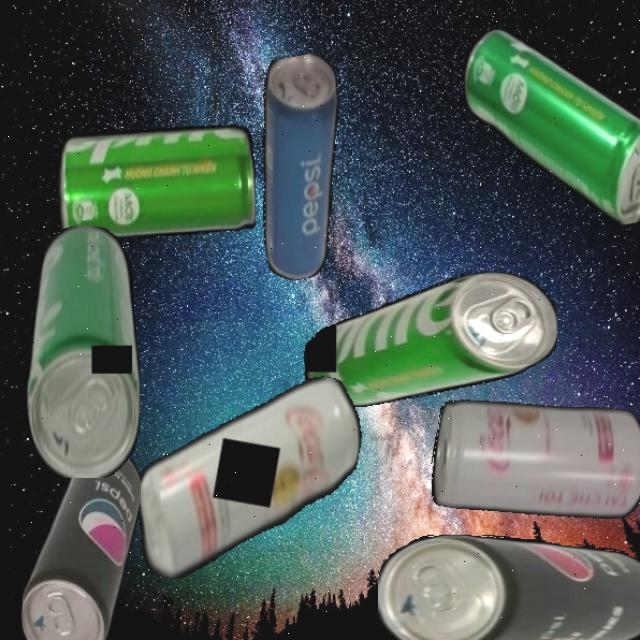debris: (124, 349, 370, 606), (454, 4, 640, 248), (302, 272, 557, 407), (424, 380, 640, 539), (234, 50, 369, 284), (24, 224, 140, 478), (378, 533, 640, 640), (20, 444, 140, 640), (57, 124, 255, 240)
